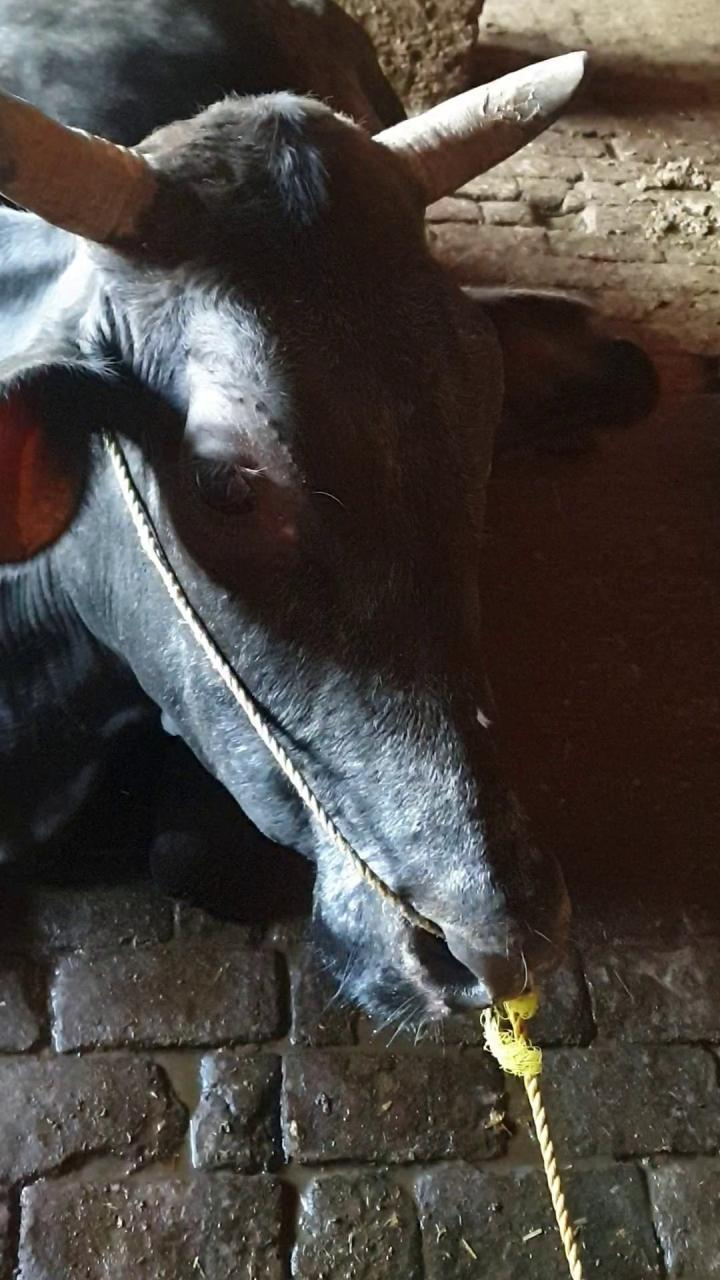cows: (48, 49, 604, 1054)
